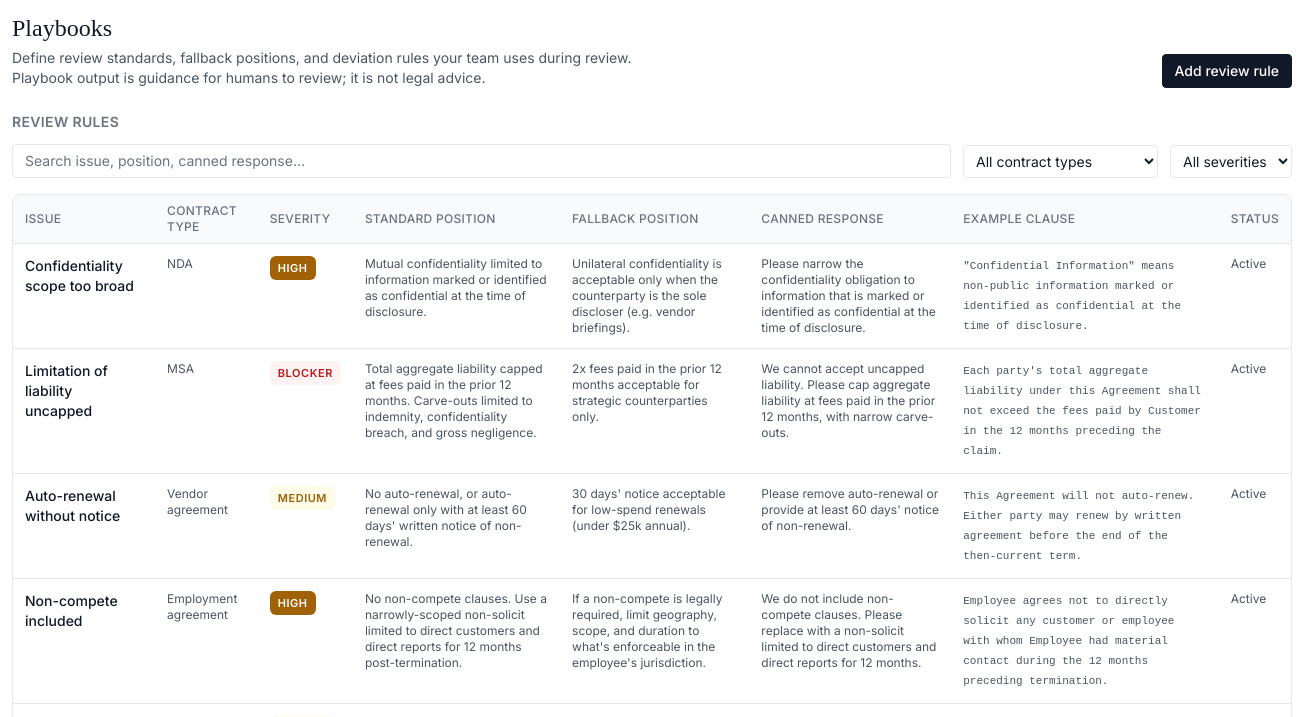
Test case: PlaybooksPage › shows a filtered-empty state and clears via Reset filters
In the search field with test id "review-rules-search": (482,161) [12,144,951,178], type "nonsense-zzz-xyz"
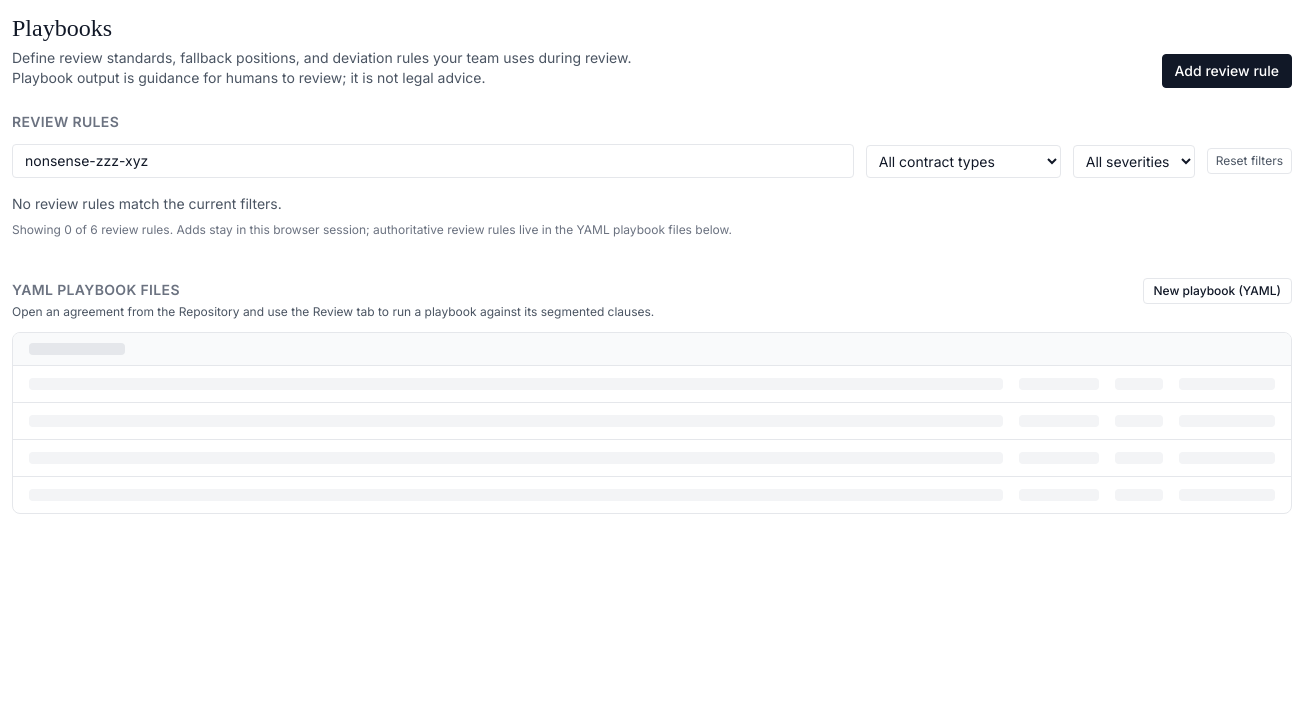
Expected: the text with test id "review-rules-empty-filtered" shows "No review rules match", [12,195,282,212]
Click the button with test id "review-rules-reset-filters": (1249,161) [1207,148,1292,174]
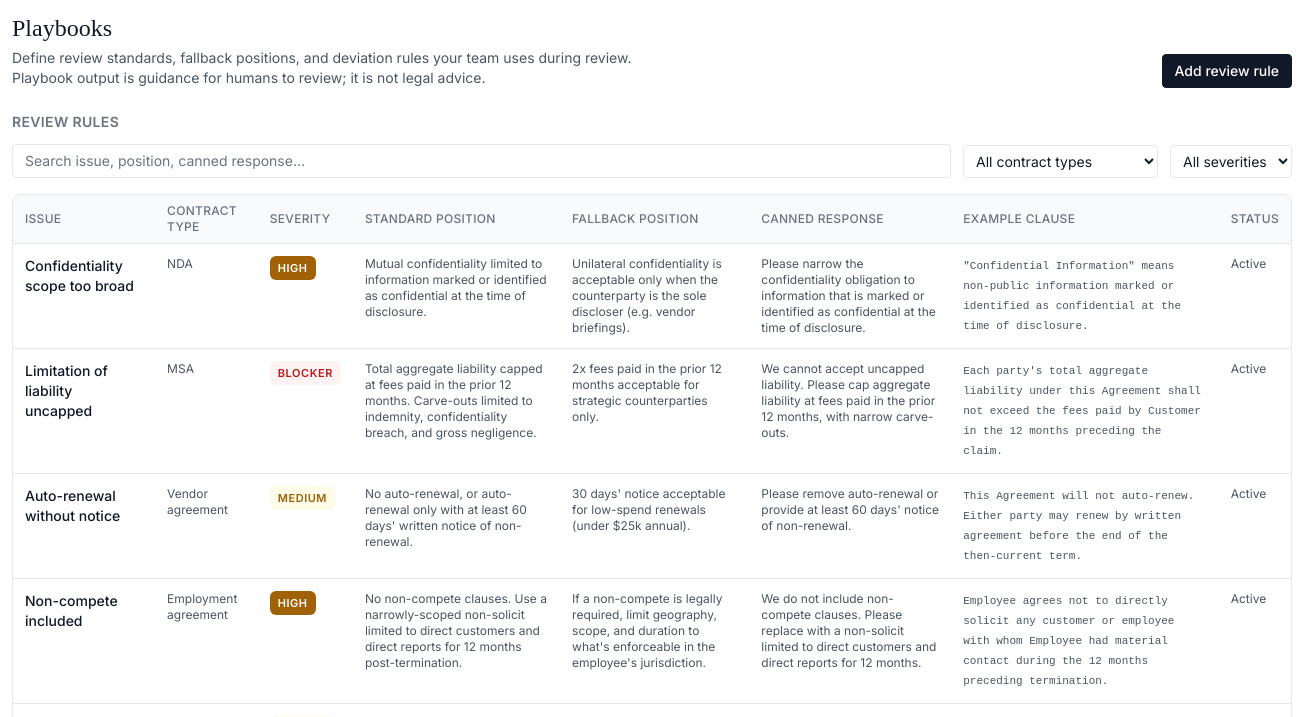
Expected: the text with test id "review-rules-empty-filtered" is gone
Expected: the search field with test id "review-rules-search" is empty, [12,144,951,178]
